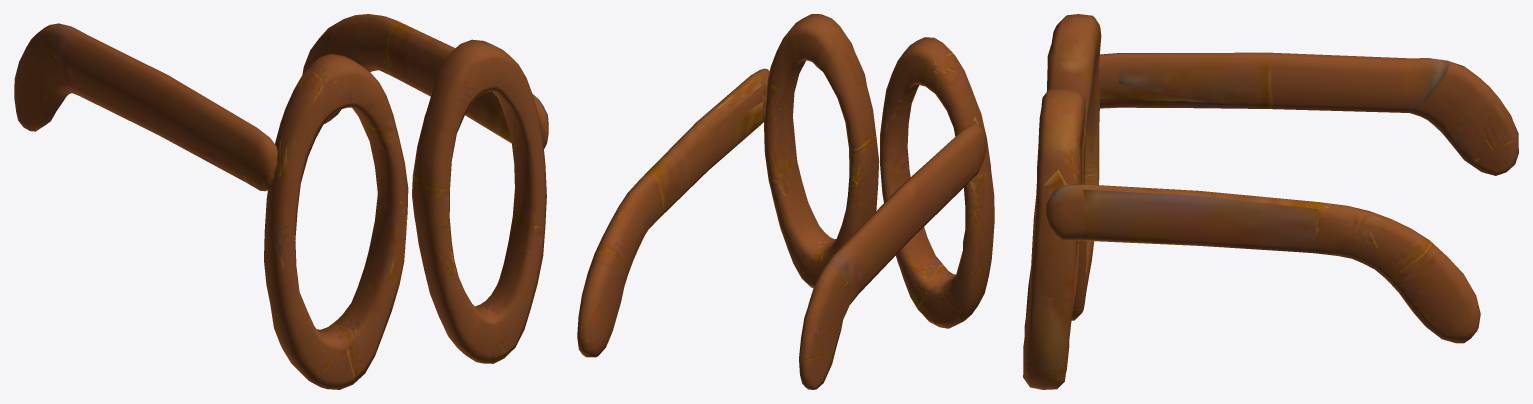
File: face_glasses.glb
3 views of the same model, side by side, from view 1: azimuth 30°, elevation 25°; view 2: azimuth 150°, elevation 25°; view 3: azimuth 270°, elevation 25° (orthographic). The views are drawn at different scales.
Bounding box in the file's own units: 0.3988 × 0.4131 × 0.6011.
1 material, 1 textured.
